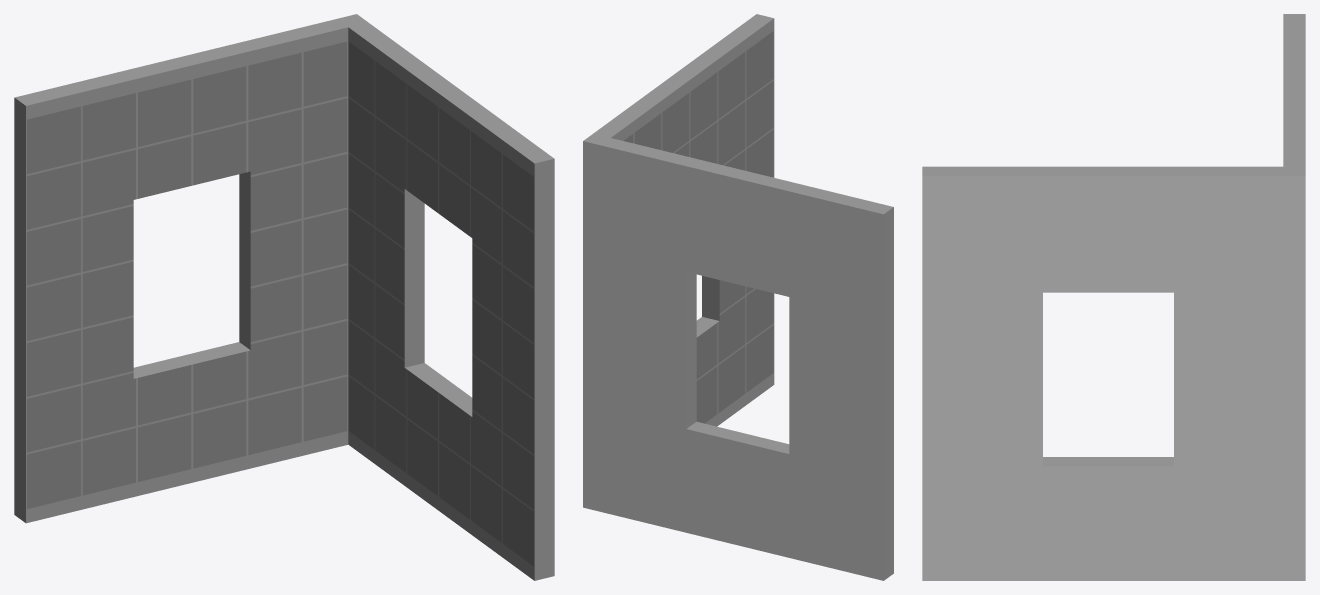
Rendered from Wall1_C7_09.fbx.
3 renders of one model, left to right at view 1: azimuth 30°, elevation 25°; view 2: azimuth 150°, elevation 25°; view 3: azimuth 270°, elevation 25°, orthographic. The views are drawn at different scales.
Visible parts, largest first — view 1: Wall1_C7_09; view 2: Wall1_C7_09; view 3: Wall1_C7_09.
Boxes of the visible parts, x1,y1,x2,y2 form: Wall1_C7_09: (14, 14, 554, 580); Wall1_C7_09: (583, 14, 893, 580); Wall1_C7_09: (922, 14, 1305, 580).
Bounding box in the file's own units: 258 × 300 × 258.
